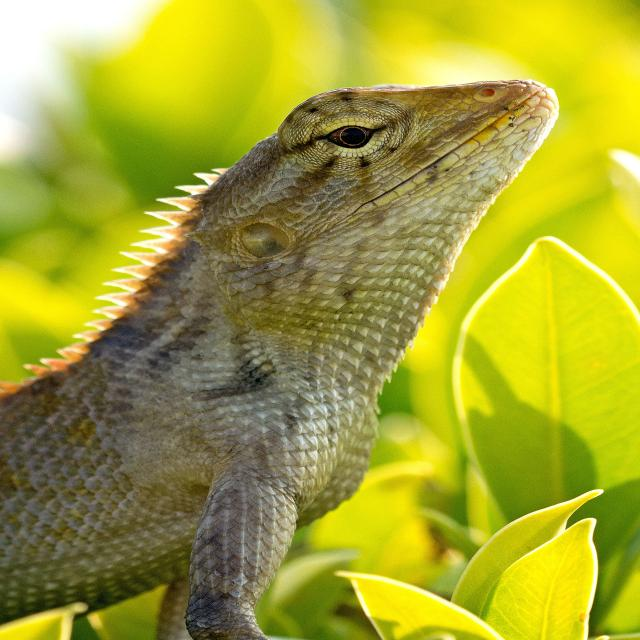Lizard: (0, 73, 568, 639)
